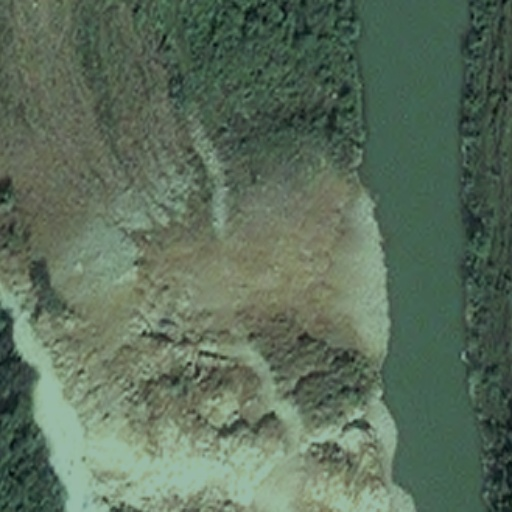landslide: (134, 172, 370, 341)
